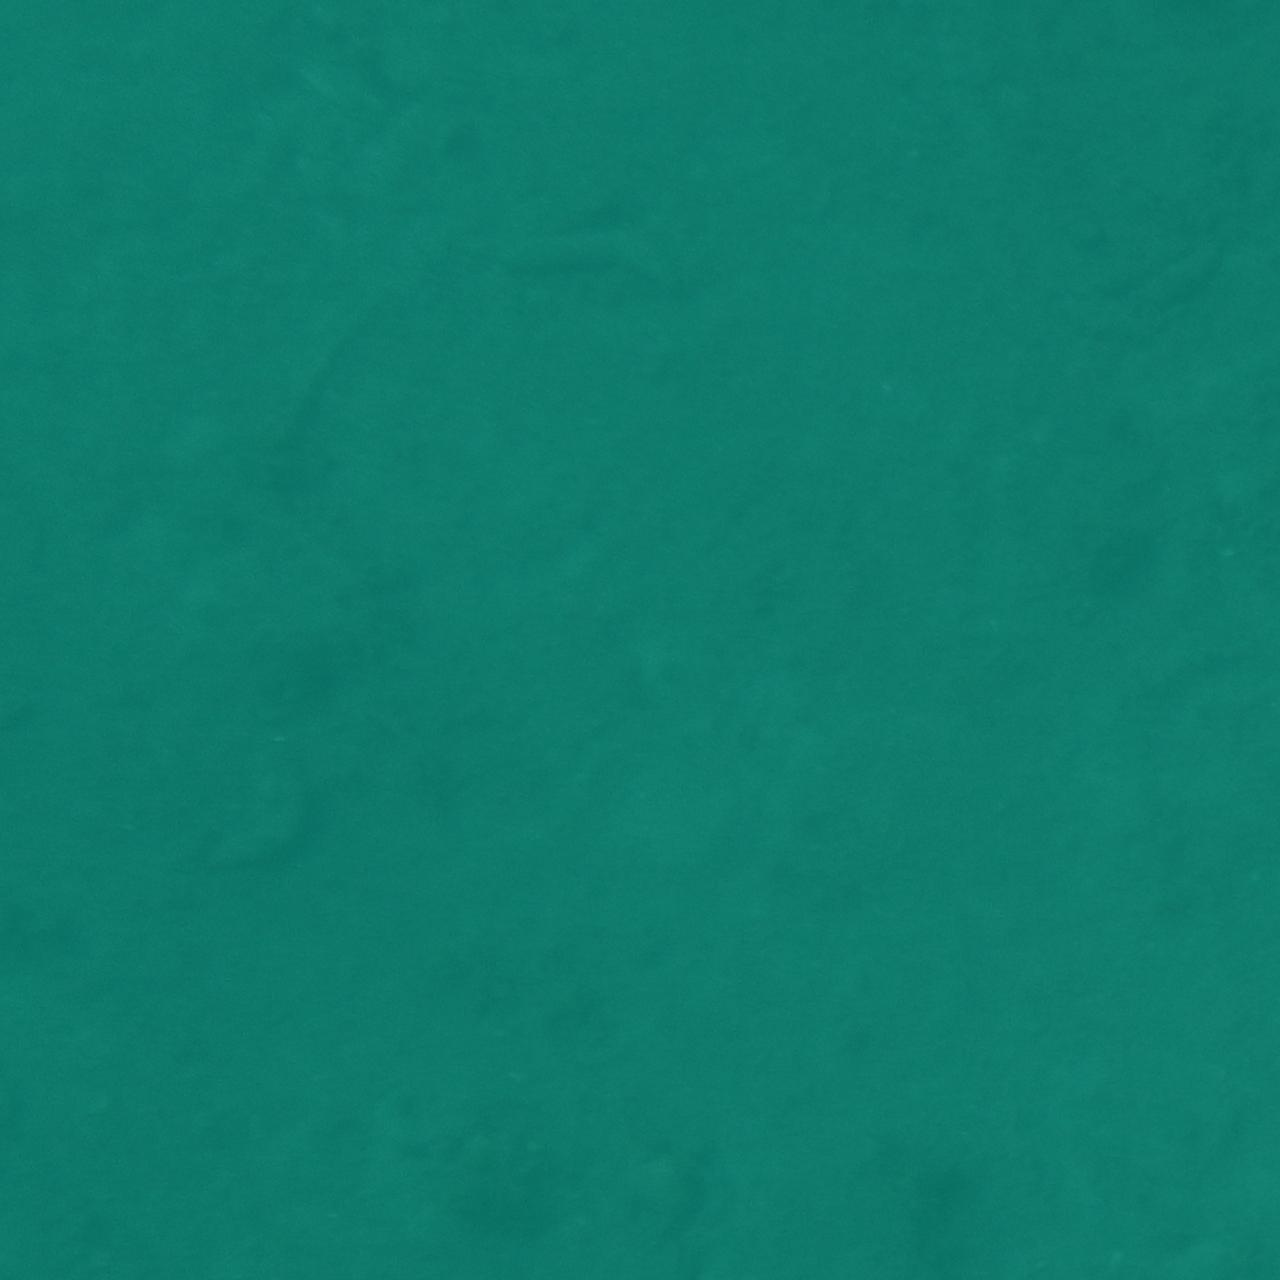Holothuria tubulosa: (452, 143, 674, 322), (206, 0, 380, 147), (154, 744, 300, 915), (870, 1197, 1124, 1280), (939, 0, 1170, 62)
